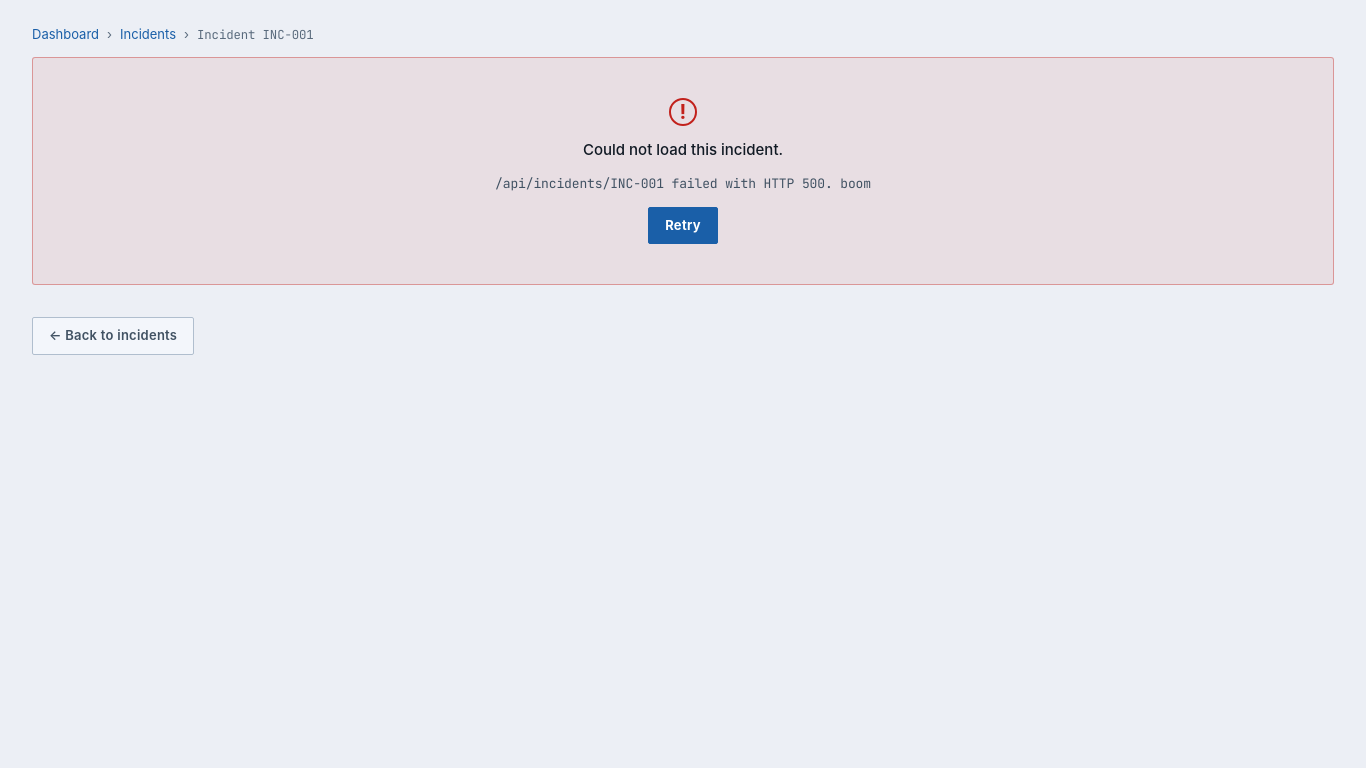
IncidentDetail — states › shows an error state with a working Retry for a server failure
The width and height of the screenshot is (1366, 768).
Expected: the text "Could not load this incident." is shown, top-left (583, 138), bottom-right (783, 162)
Click the button "Retry" at (683,225), box top-left (648, 207), bottom-right (718, 244)
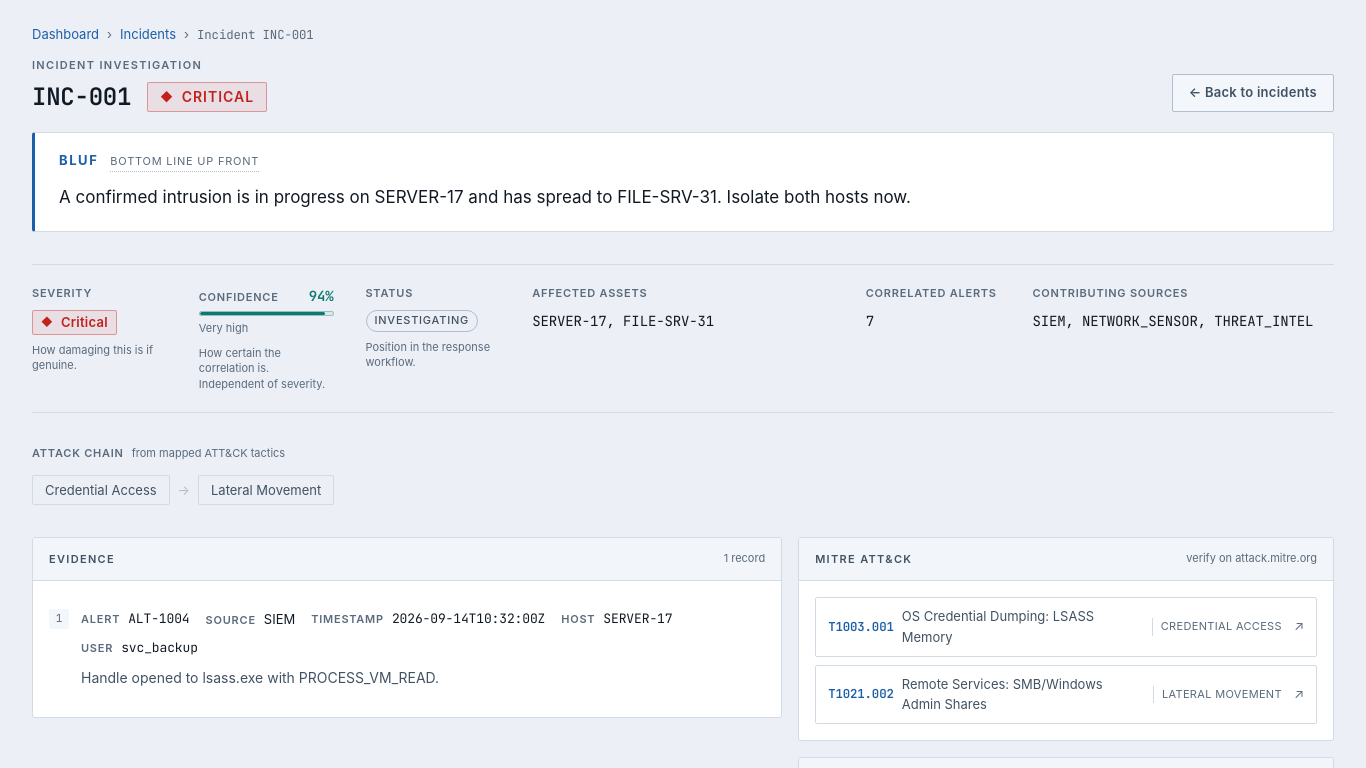
Expected: the heading "BLUF" is shown, top-left (59, 153), bottom-right (98, 169)
